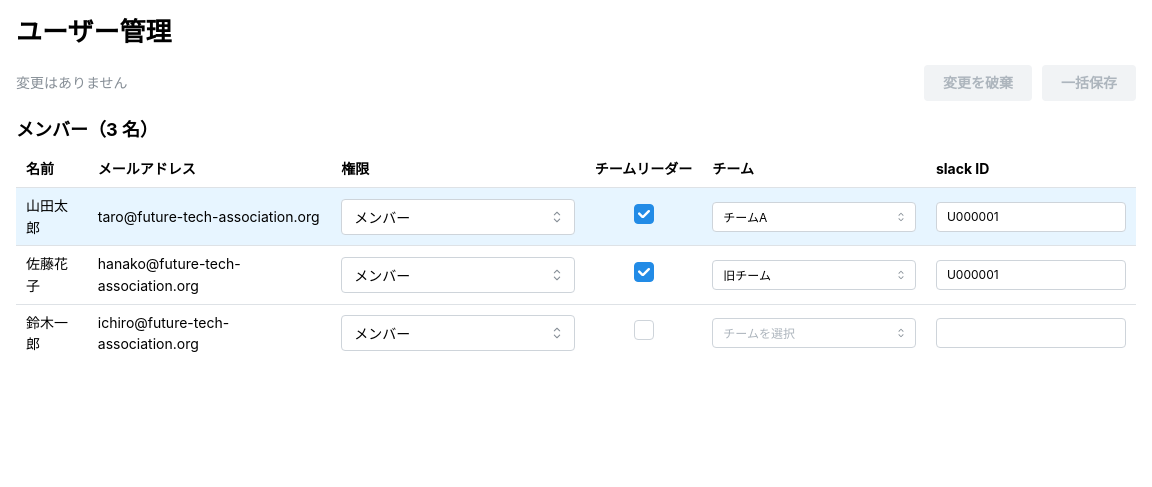
UserList › 画面見出しは「ユーザー管理」で、権限セレクトは表示名の選択肢を PROFILE_CLASSES の順に出す
Expected: the heading "ユーザー管理" is shown, [16, 16, 172, 47]
Step 1. Click the field named "鈴木一郎の権限" → (458, 333), box [341, 315, 575, 351]
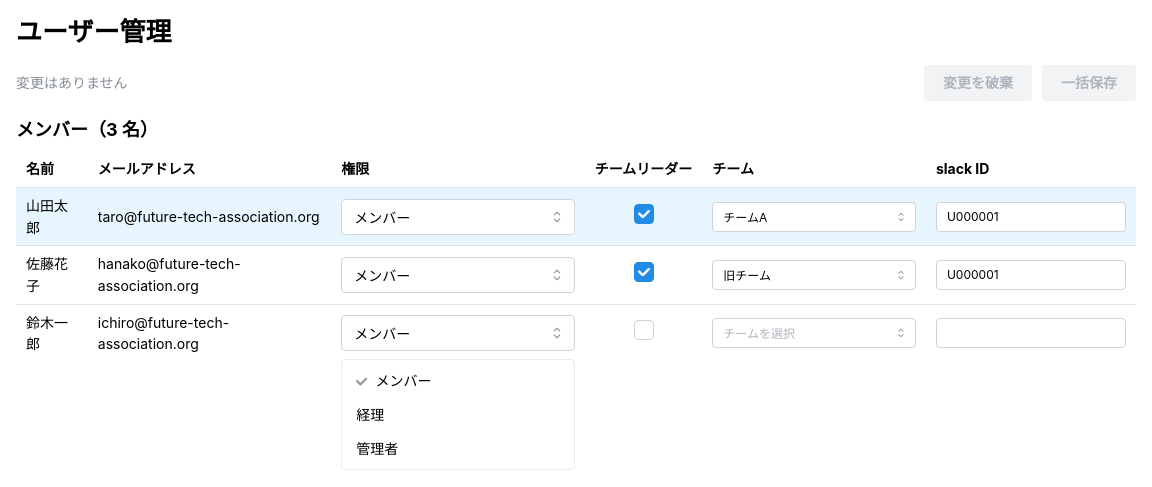
Now the options read "メンバー", "経理", "管理者", in this order, box [356, 372, 432, 389]; [356, 406, 384, 423]; [356, 440, 398, 457]
